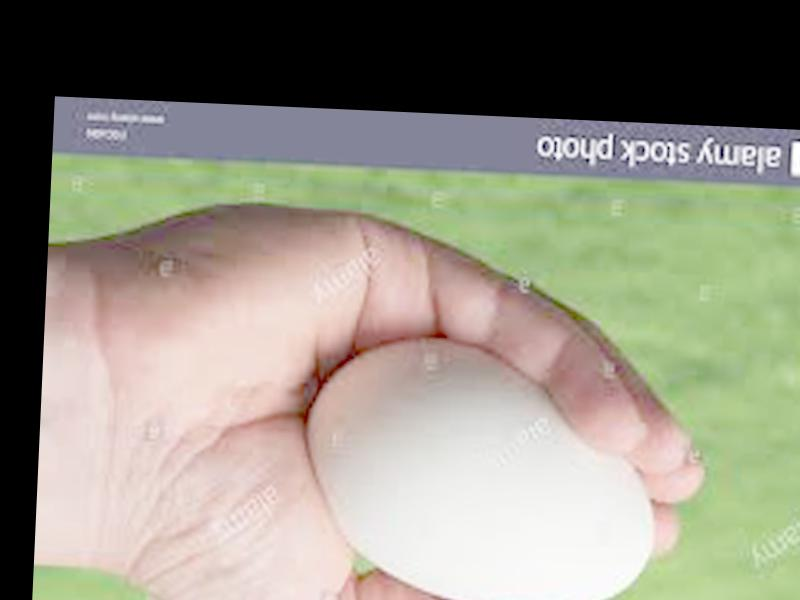Eggs: (294, 332, 660, 600)
